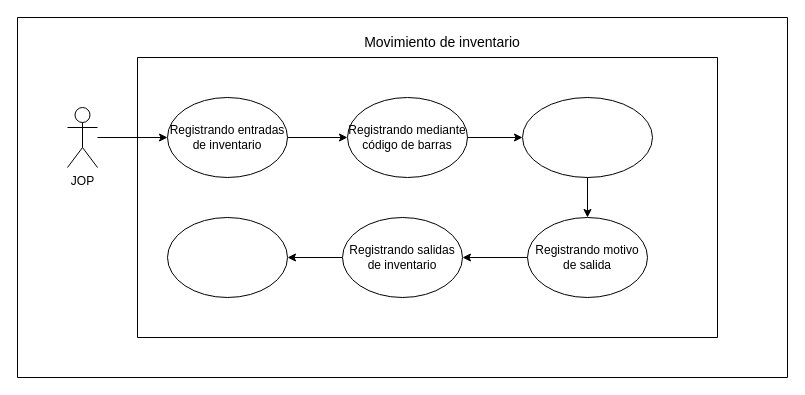
The diagram is 805 pixels wide and 395 high, and some of its shapes have lost their labels. Each missing label, with the centre of its shape:
Ejecutando conteo cíclico de inventario: (x=227, y=257)
Registrando proveedor en entrada: (x=587, y=137)
